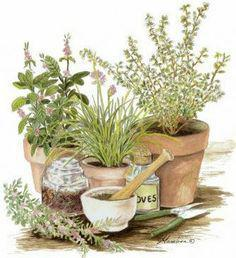pottedplant: (121, 18, 211, 211), (21, 40, 85, 204), (80, 97, 138, 190)
